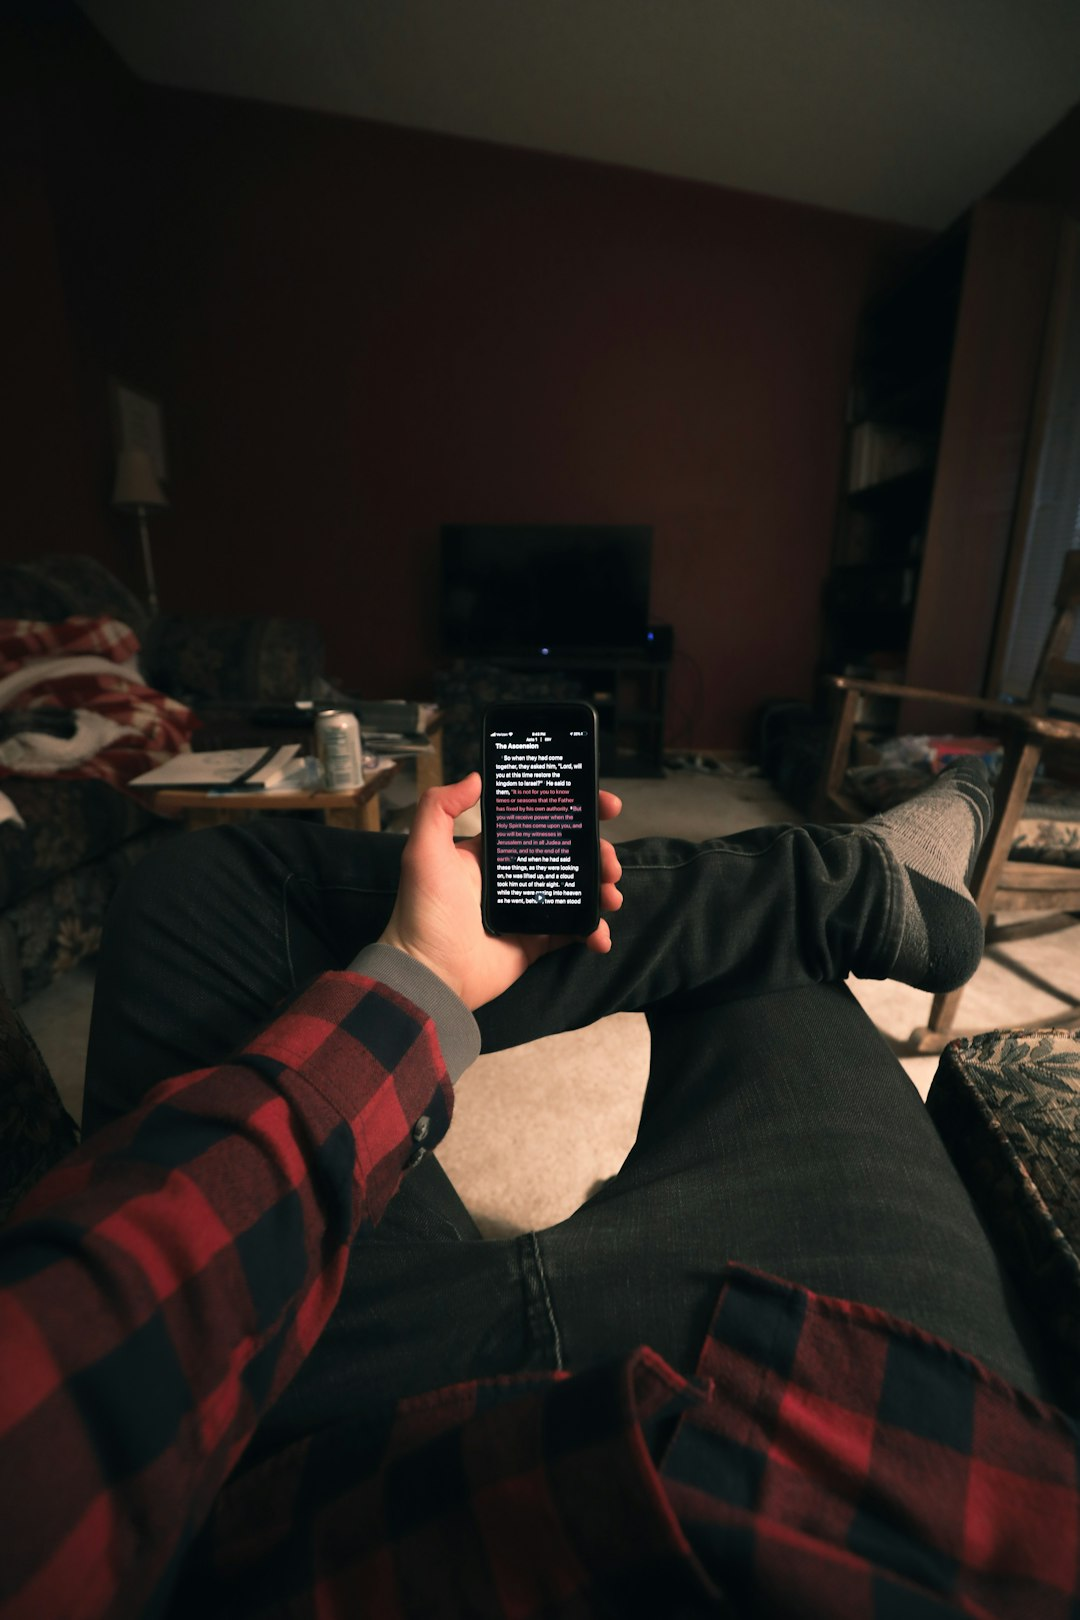phone: (476, 699, 604, 939)
